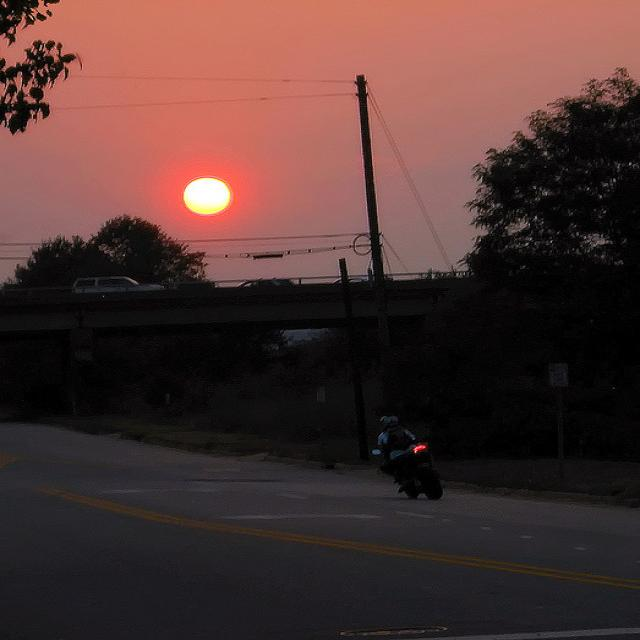motor: (391, 428, 442, 498)
